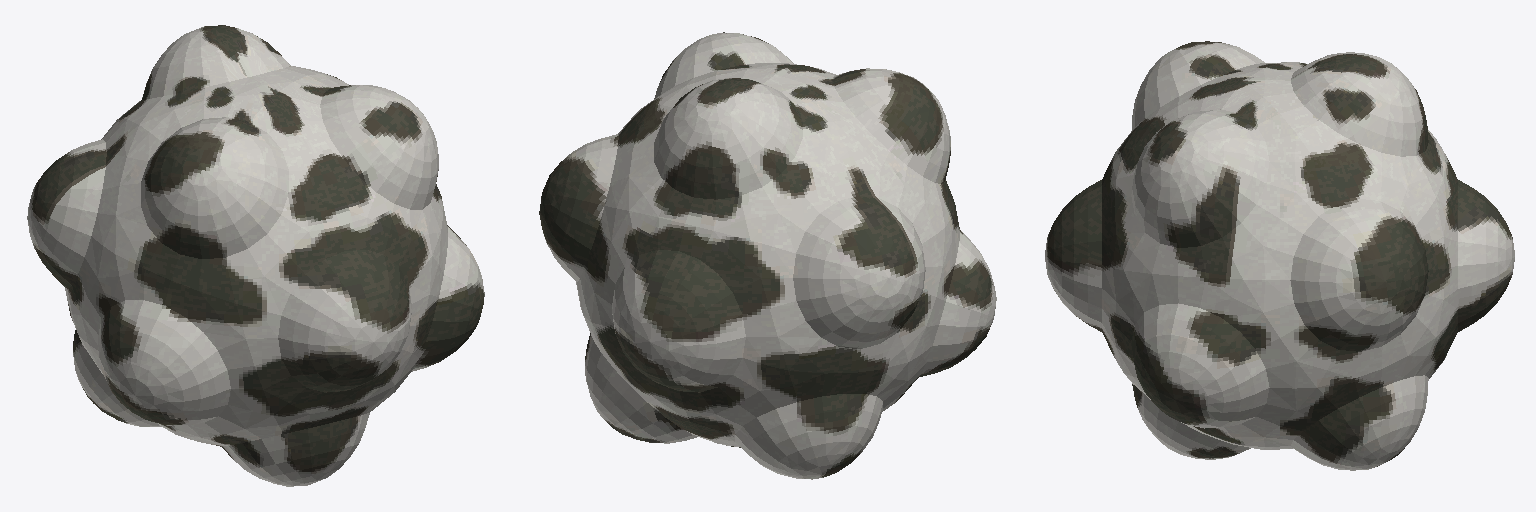
The picture shows the model from 3 angles: view 1: azimuth 30°, elevation 25°; view 2: azimuth 150°, elevation 25°; view 3: azimuth 270°, elevation 25°; orthographic projection.
Parts seen in each view (by area): view 1: core_19_0; view 2: core_19_0; view 3: core_19_0.
Boxes of the visible parts, x1=… form: core_19_0: x1=27, y1=25, x2=484, y2=486; core_19_0: x1=539, y1=32, x2=996, y2=479; core_19_0: x1=1045, y1=41, x2=1514, y2=470.
Size of the model in its own units: 0.0478 by 0.0494 by 0.0537.
1 materials, 1 textured.